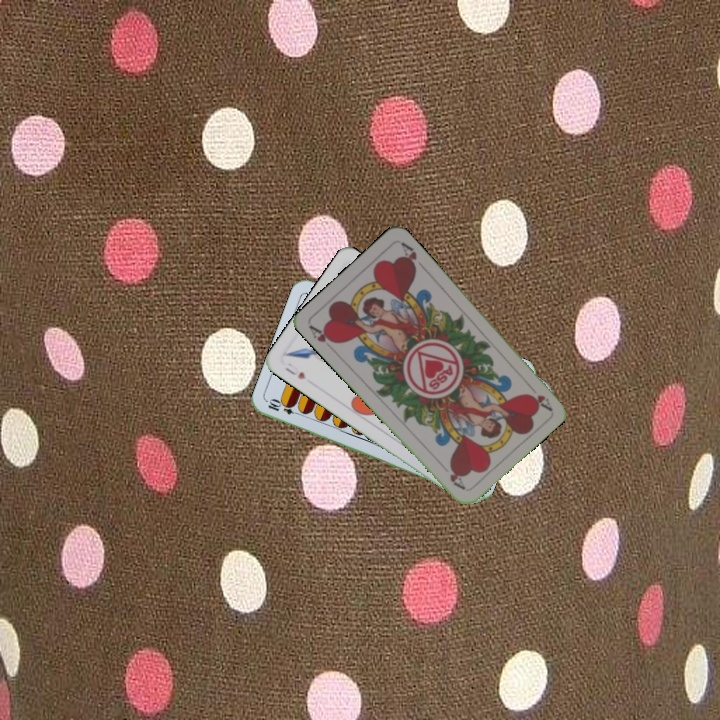E10: (264, 396, 304, 418)
HA: (305, 321, 340, 354), (522, 378, 554, 413)
HU: (281, 359, 308, 382)
